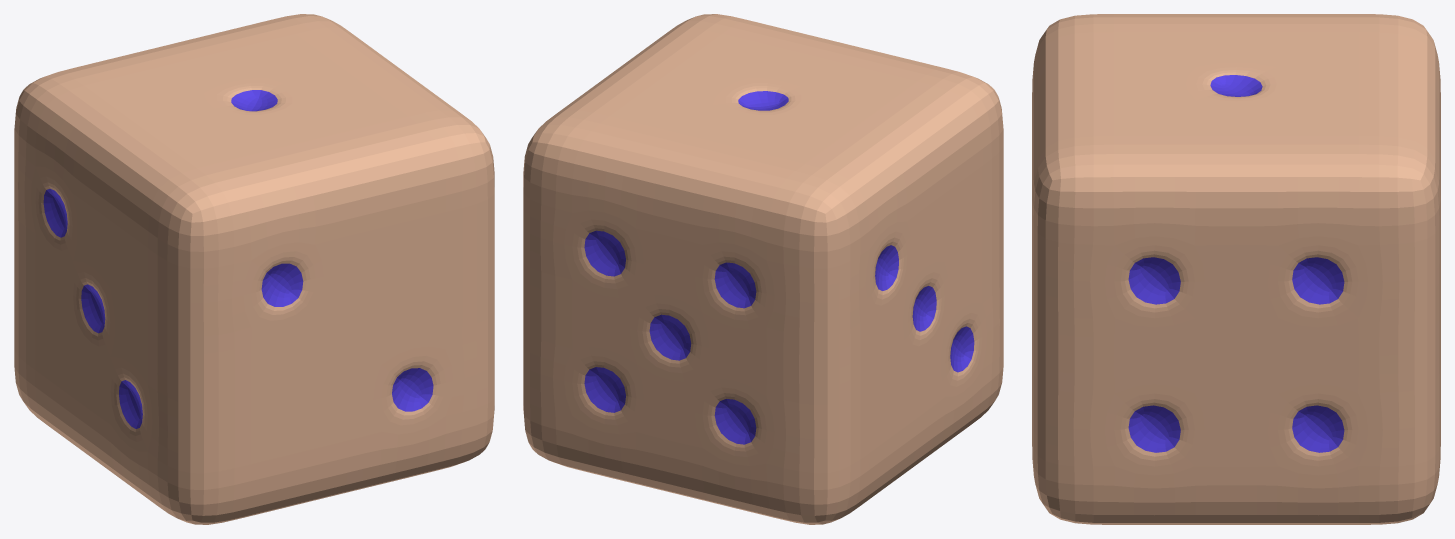
The model's file is Die.fbx.
3 views of the same model, side by side, from view 1: azimuth 30°, elevation 25°; view 2: azimuth 150°, elevation 25°; view 3: azimuth 270°, elevation 25° (orthographic). The views are drawn at different scales.
Visible parts, largest first — view 1: Cube; view 2: Cube; view 3: Cube.
Boxes of the visible parts, left/top/right/bottom form: Cube: left=14, top=14, right=494, bottom=524; Cube: left=523, top=14, right=1003, bottom=524; Cube: left=1032, top=14, right=1440, bottom=524.
Size of the model in its own units: 20000 by 20000 by 20000.
